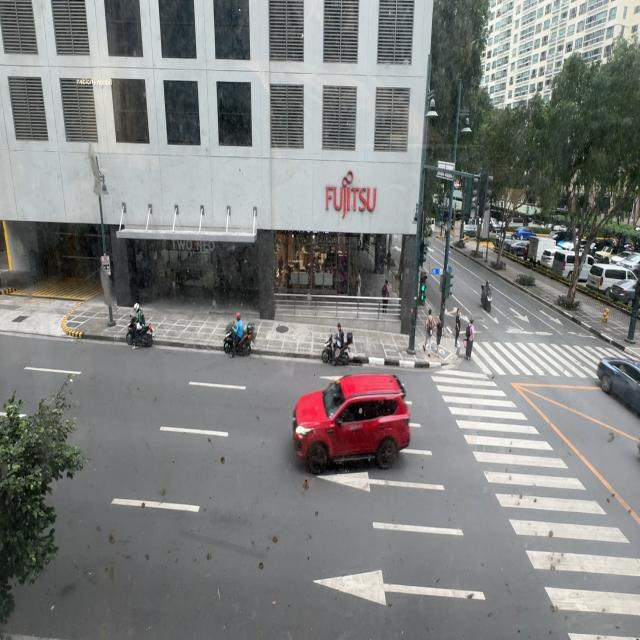pedestrain: (423, 308, 436, 355), (435, 315, 444, 356)
waiting: (465, 318, 474, 360), (455, 308, 461, 349)
